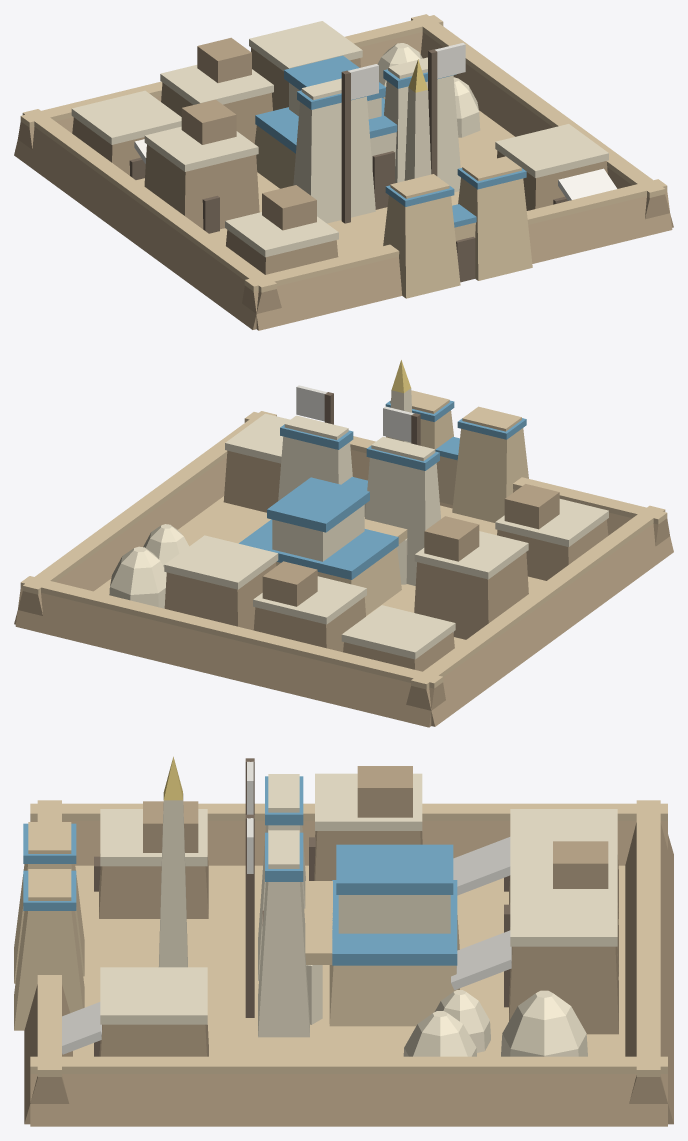
File: city.glb
3 views of the same model, one above another, from view 1: azimuth 30°, elevation 25°; view 2: azimuth 150°, elevation 25°; view 3: azimuth 270°, elevation 25° (orthographic). The views are drawn at different scales.
Parts seen in each view (by area): view 1: egyptian_city; view 2: egyptian_city; view 3: egyptian_city.
Boxes of the visible parts, x1,y1,x2,y2 form: egyptian_city: (14,14,673,330); egyptian_city: (14,360,673,727); egyptian_city: (14,756,673,1126).
Size of the model in its own units: 0.9842 by 0.3989 by 1.
